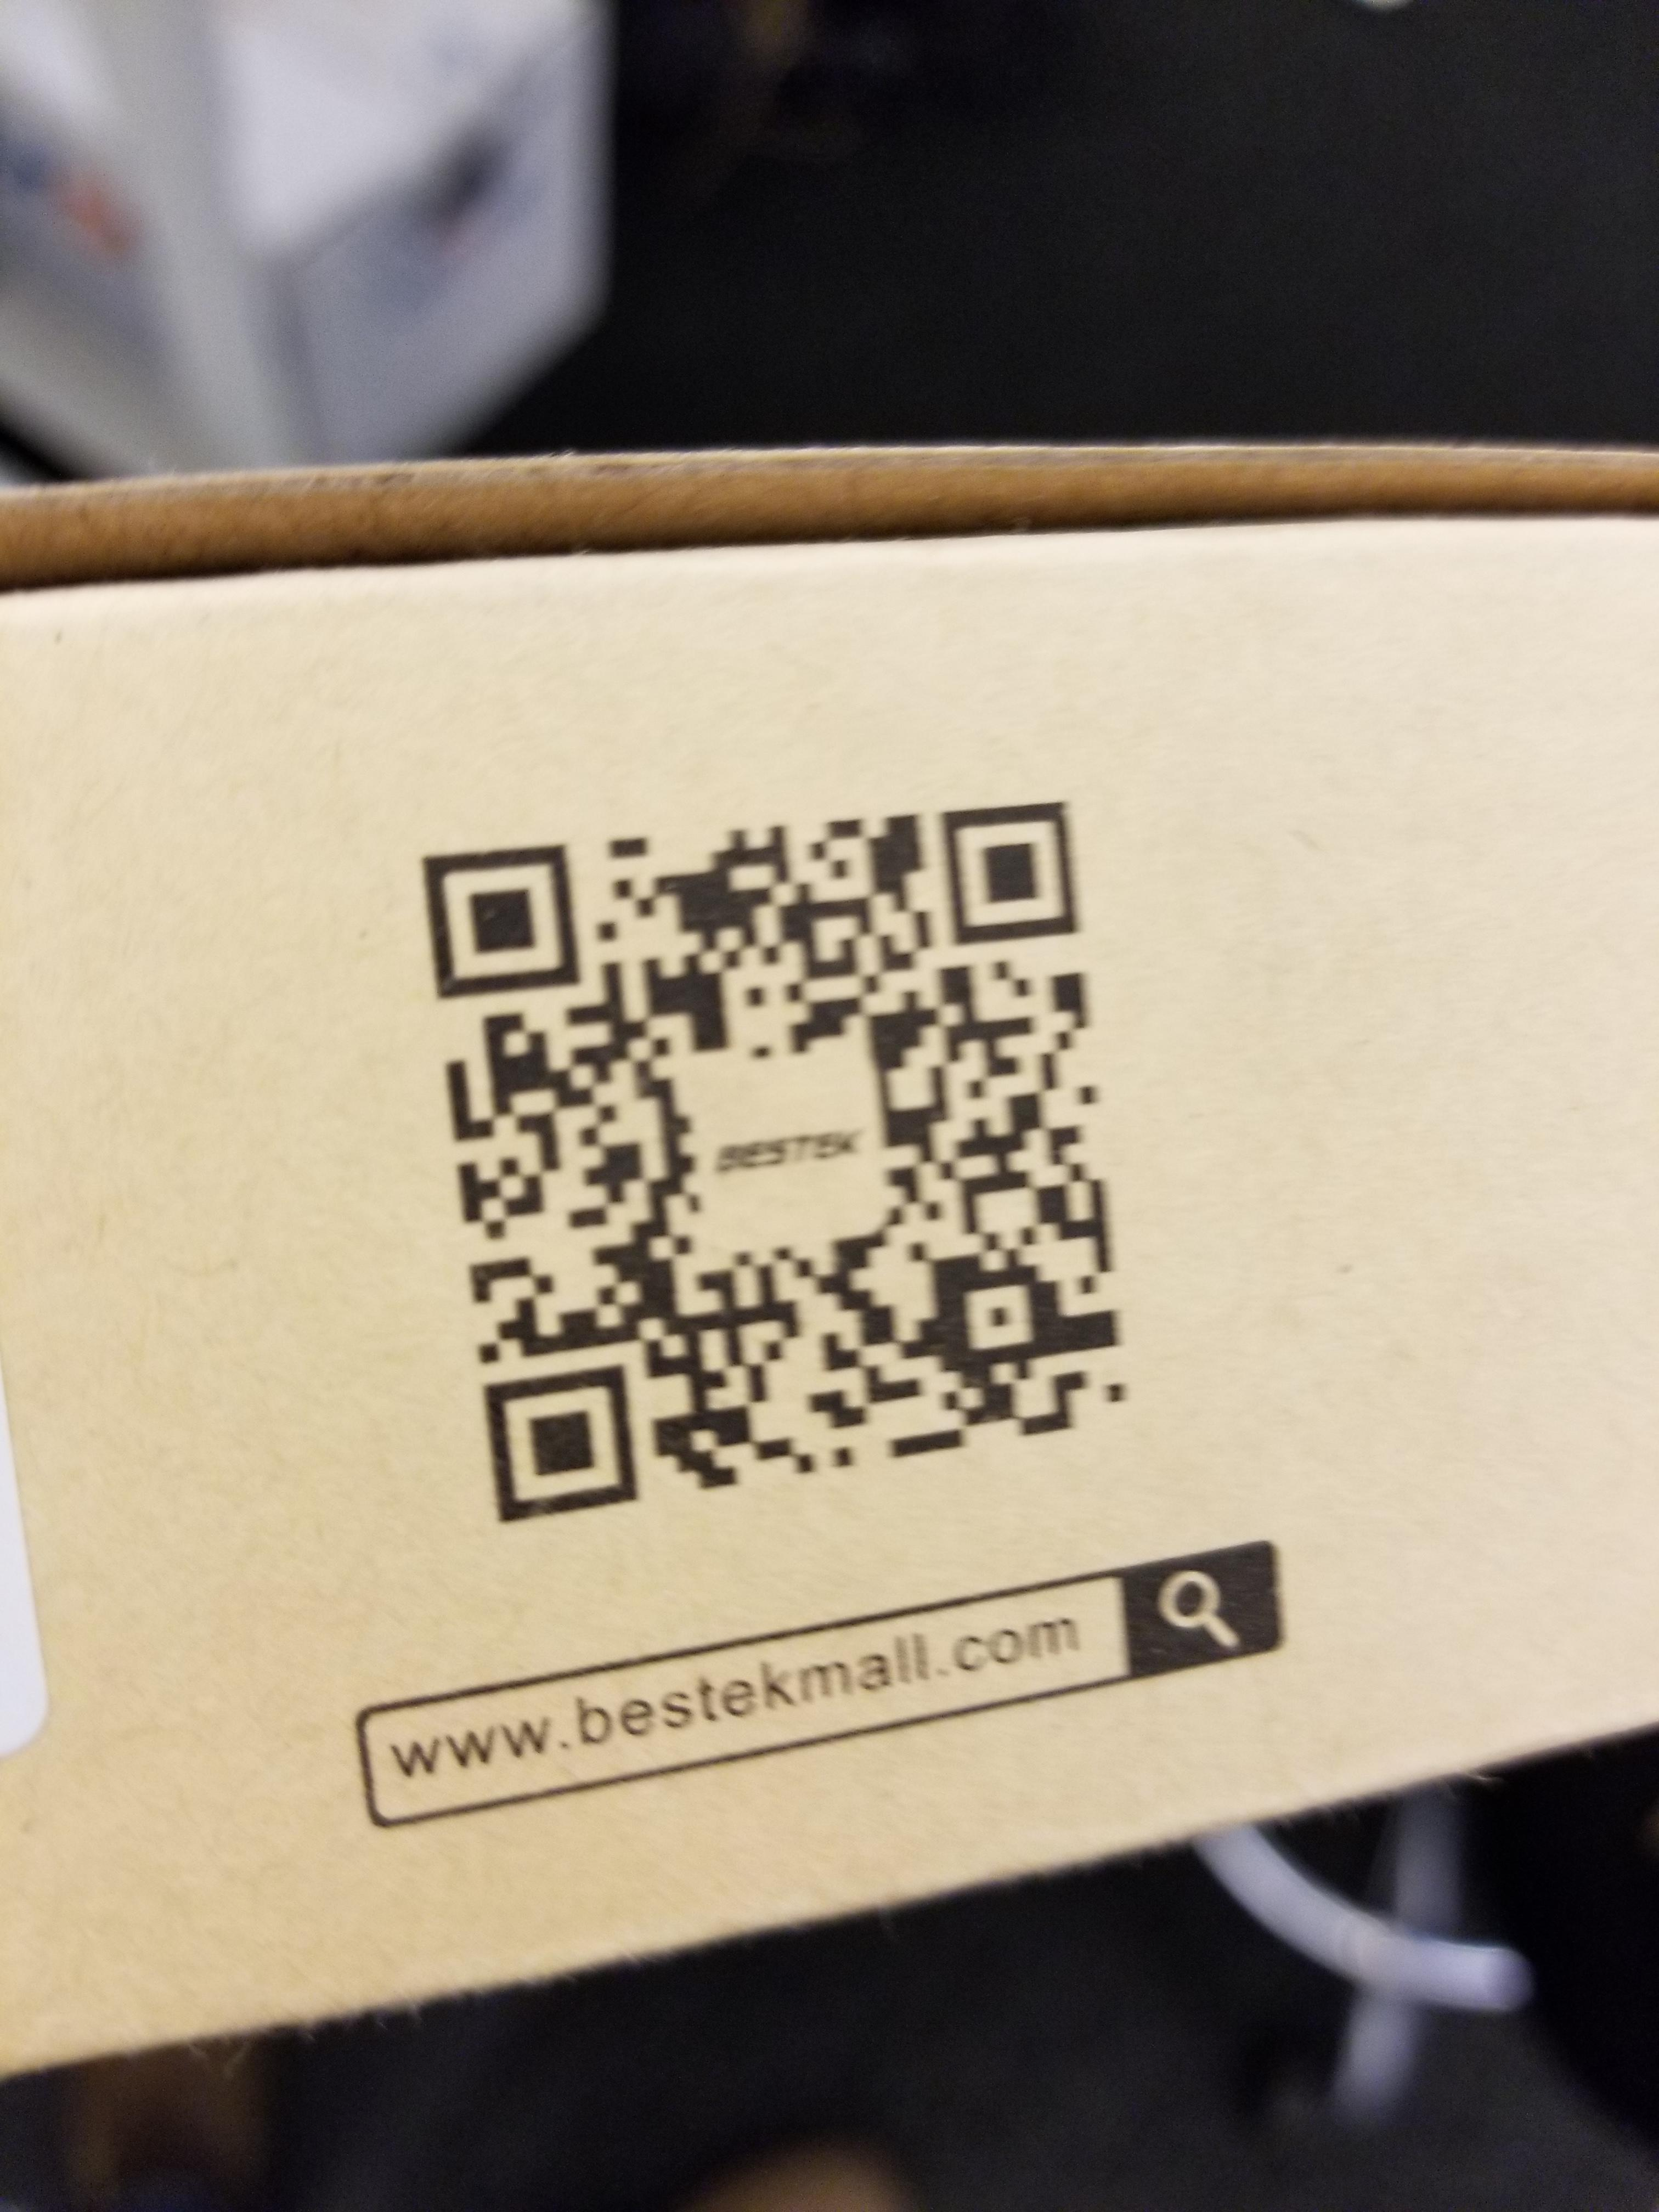QR_CODE: (361, 745, 1164, 1547)
